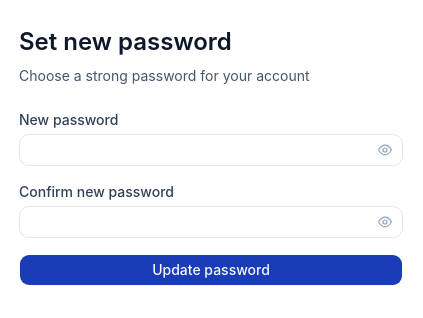
Test: ResetPasswordPage › показывает inline-ошибку при 422 (истёкший/невалидный токен)
This screenshot has width=423, height=318.
Type "NewPass1!" into the password field labelled "New password".
click(211, 150); type("NewPass1!")  # box [19,134,403,166]
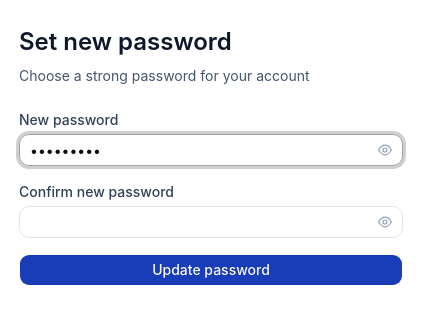
Type "NewPass1!" into the password field labelled "Confirm new password".
click(211, 222); type("NewPass1!")  # box [19,206,403,238]
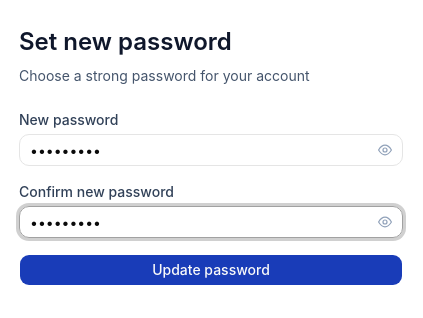
Click the button "Update password".
click(211, 270)  # box [19,254,403,286]
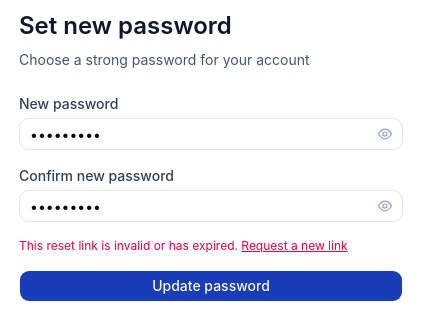
Now the text "invalid or has expired" is shown, box [19,238,238,253]
Now the link "Request a new link" is shown, box [241,238,348,253]
